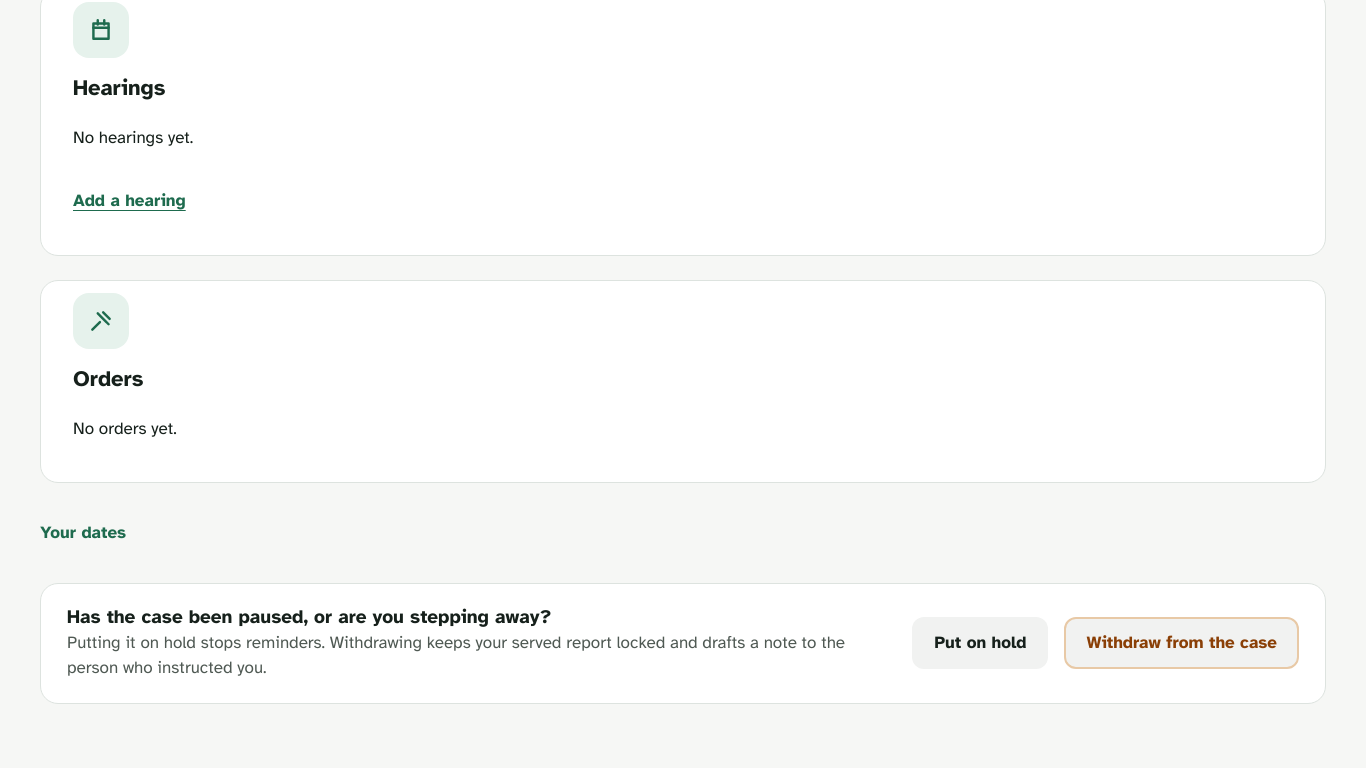
Test: withdrawing asks for a reason, then the code, and says the report stays locked
The width and height of the screenshot is (1366, 768).
(page scrolled)
Click the button "Withdraw from the case" at [1182, 643], box [1064, 617, 1299, 669]
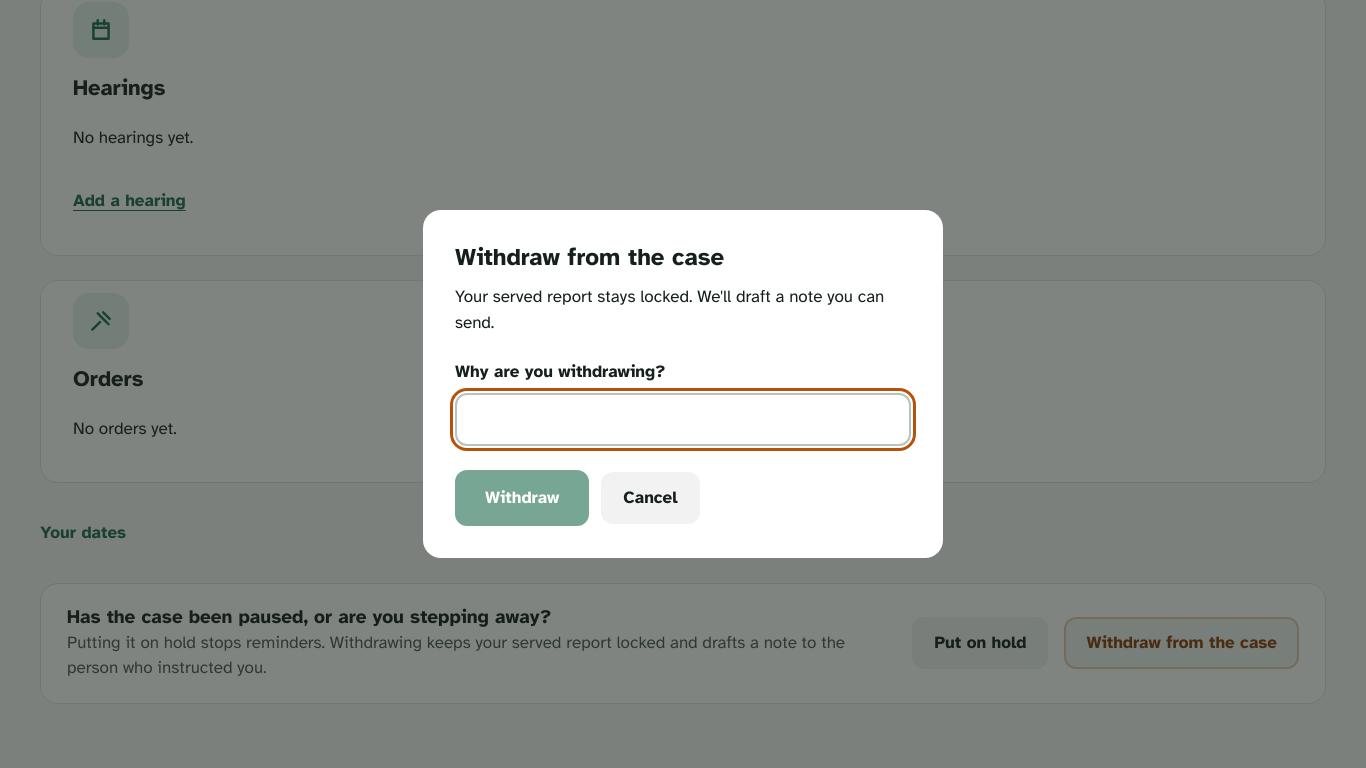
expect the button "Withdraw" is disabled: met, box [455, 470, 589, 526]
Type "Conflict found." into the field labelled "Why are you withdrawing?" at [683, 419], box [455, 392, 911, 446]
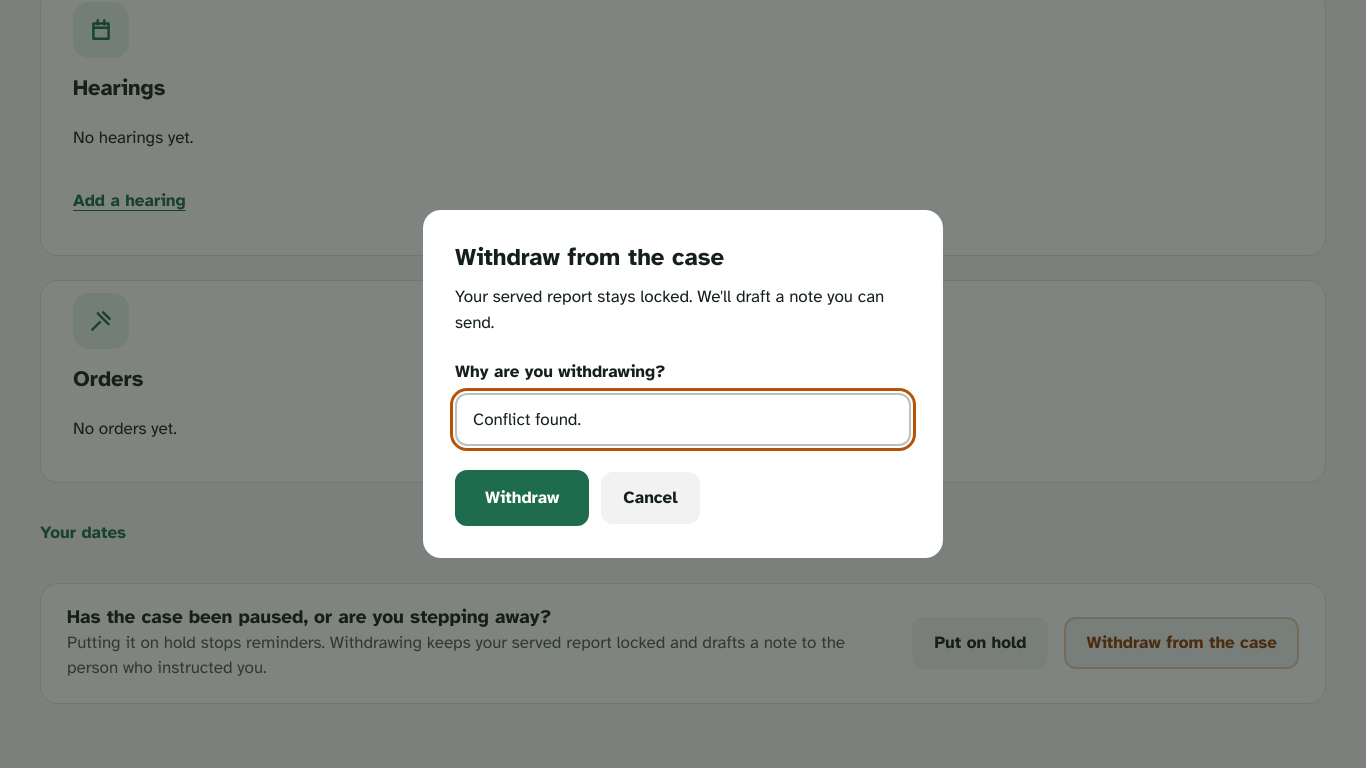
Click the button "Withdraw" at [522, 498], box [455, 470, 589, 526]
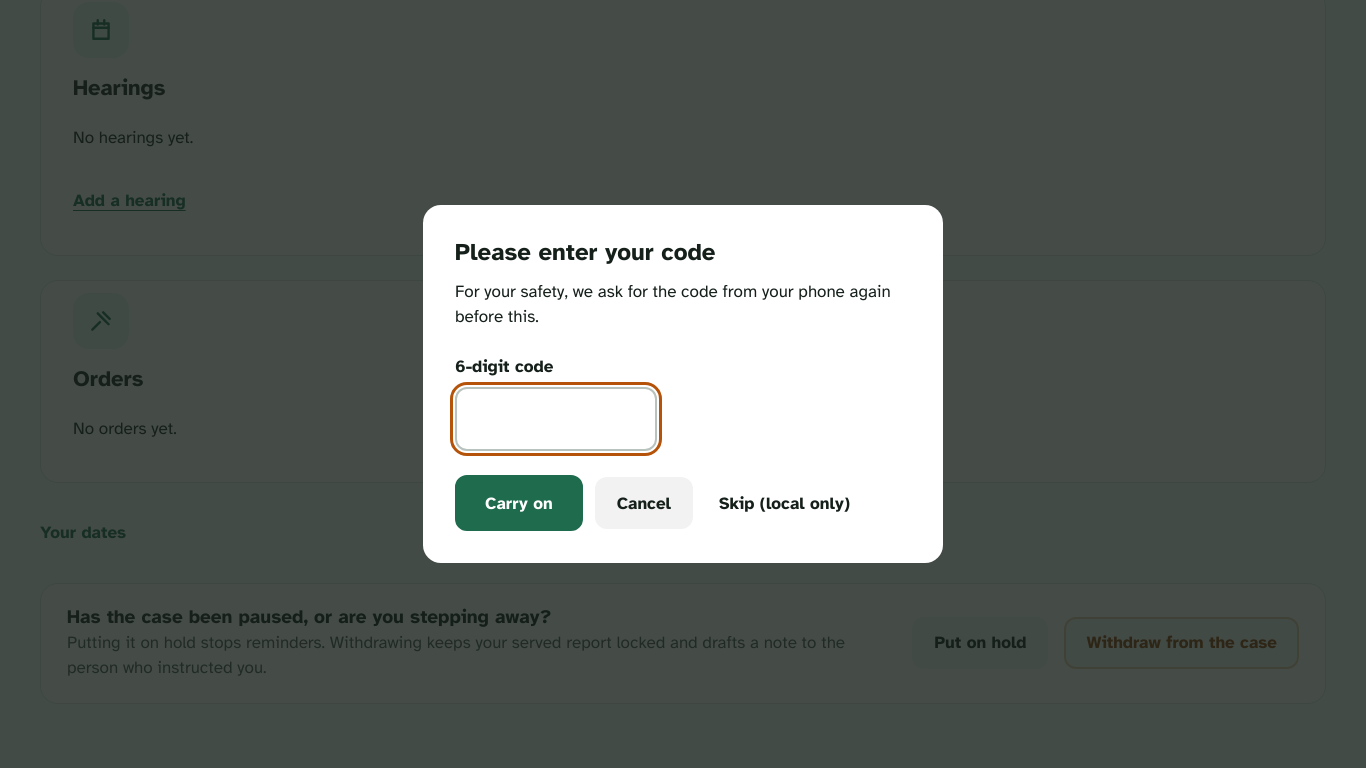
Type "123456" into the field labelled "6-digit code" at [556, 419], box [455, 387, 657, 451]
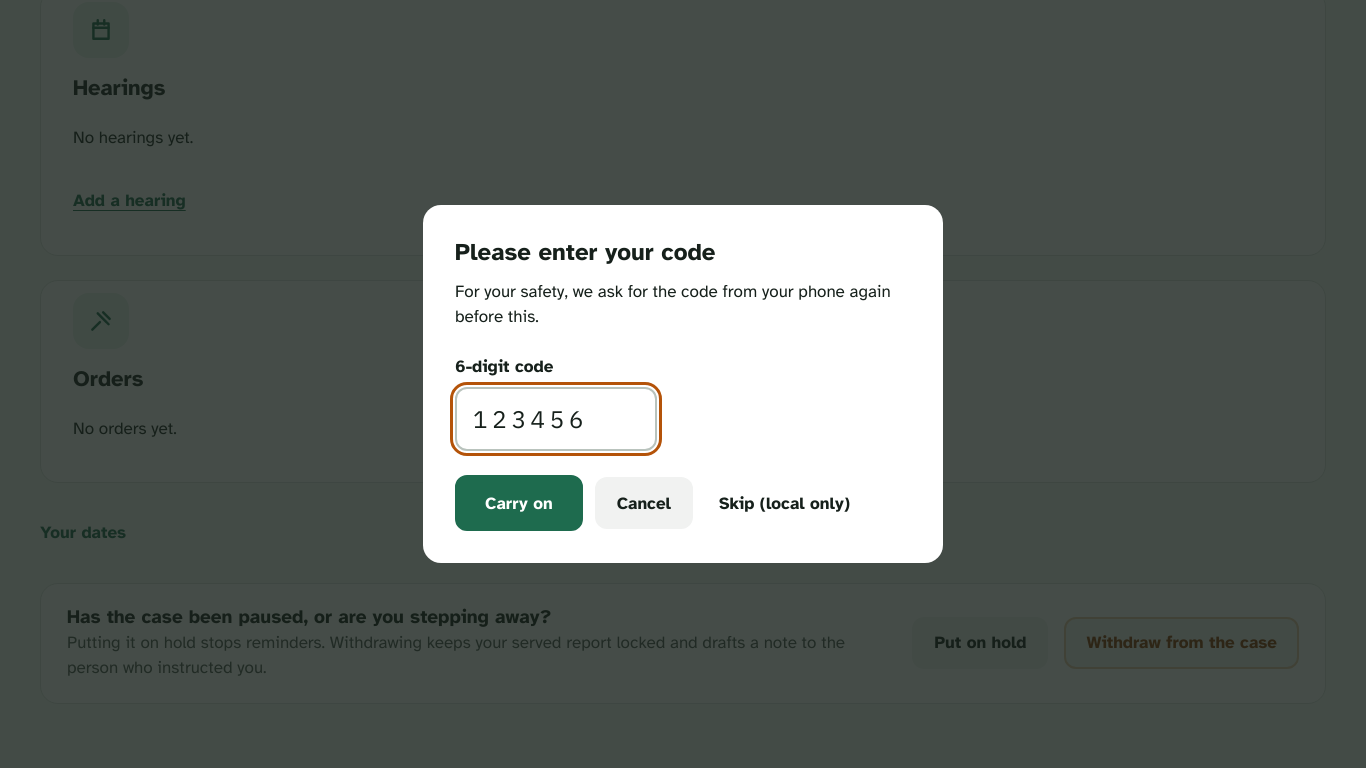
Click the button "Carry on" at [519, 503], box [455, 475, 583, 531]
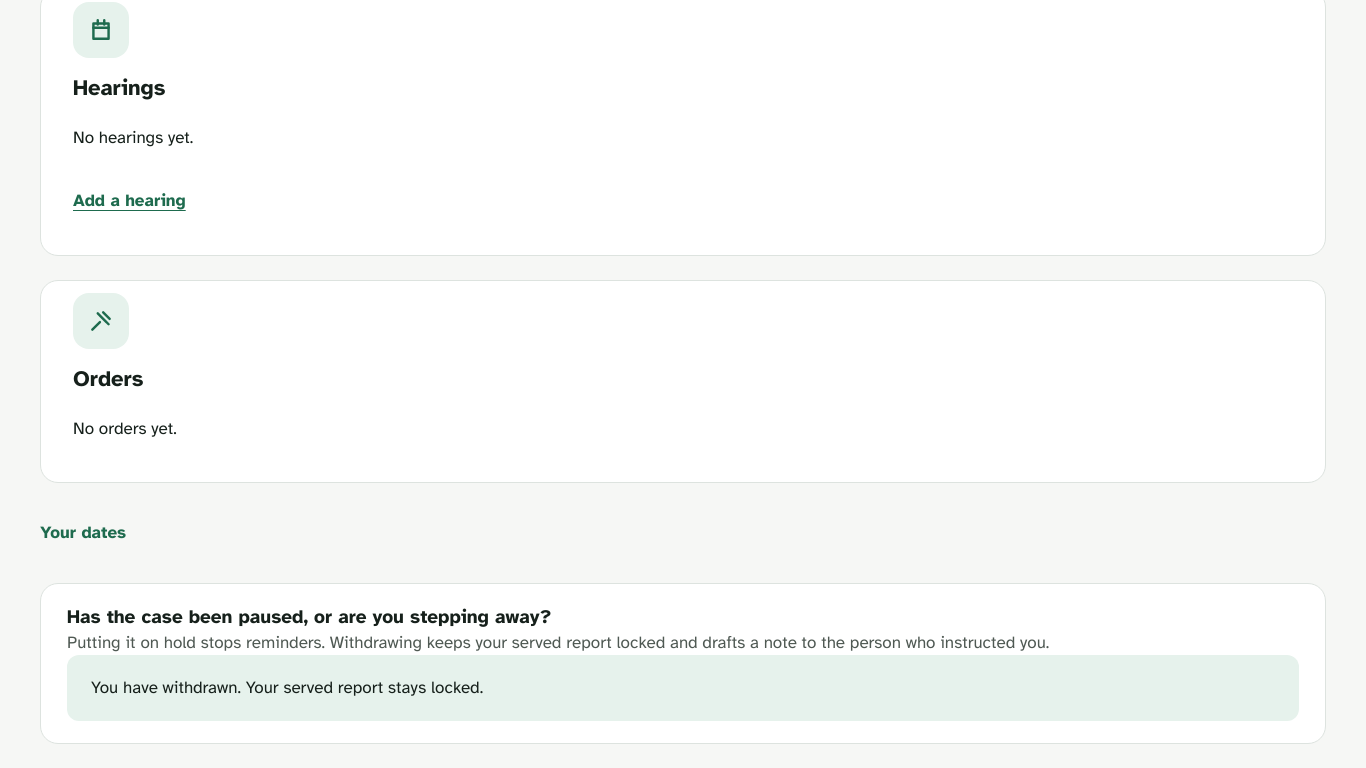
expect the text "You have withdrawn. Your served report stays locked." is shown: met, box [91, 677, 483, 698]
